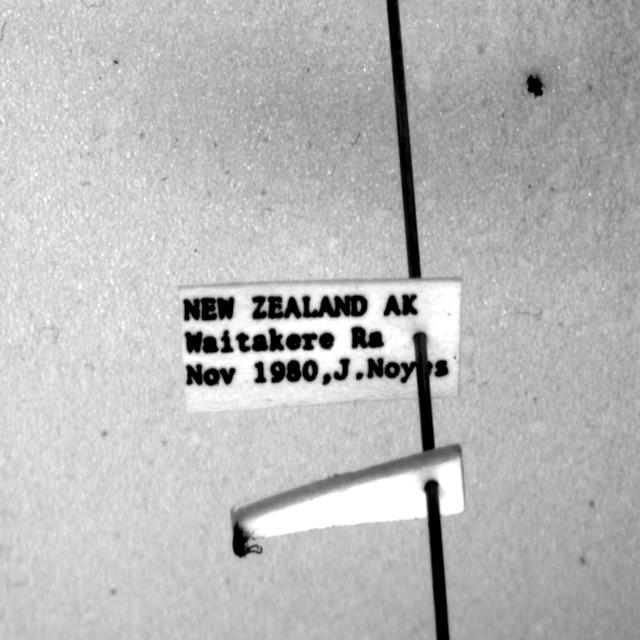typed_label: (180, 278, 461, 412)
